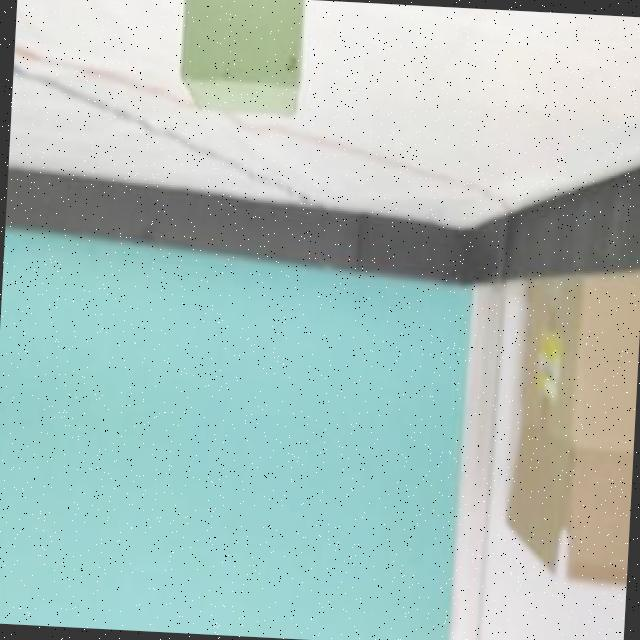greenbox: (175, 0, 304, 118)
